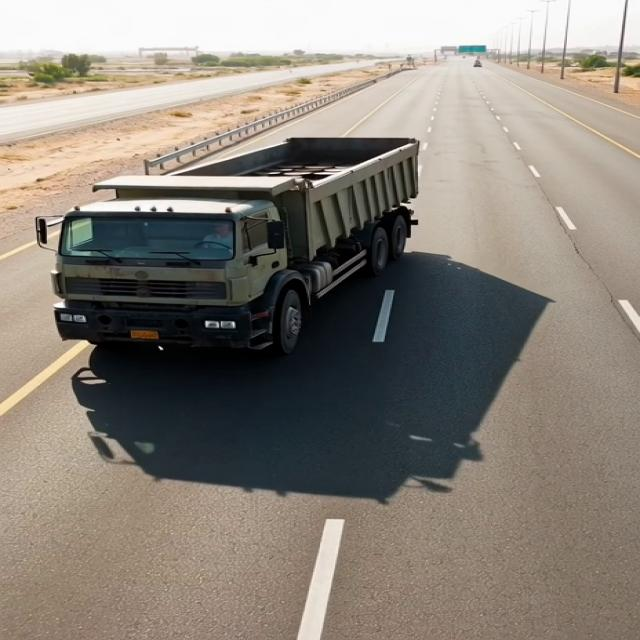Box: (100, 134, 424, 192)
Truck: (34, 113, 445, 366)
